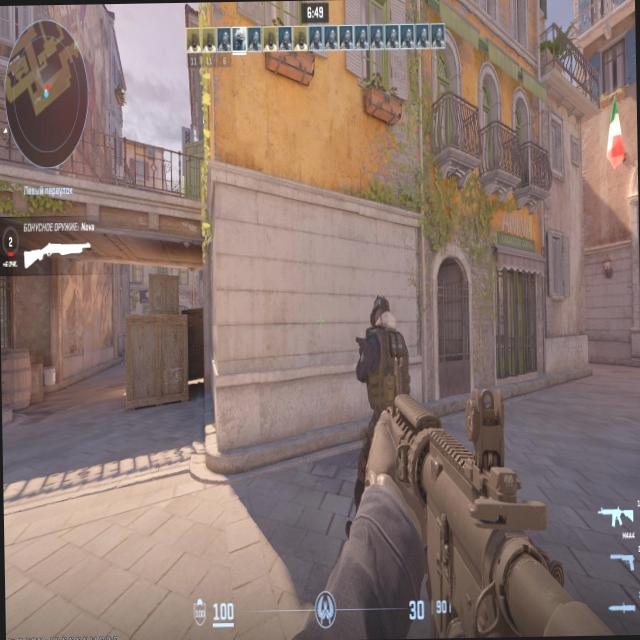CT: (366, 304, 406, 404)
CT_heat: (379, 304, 388, 326)
